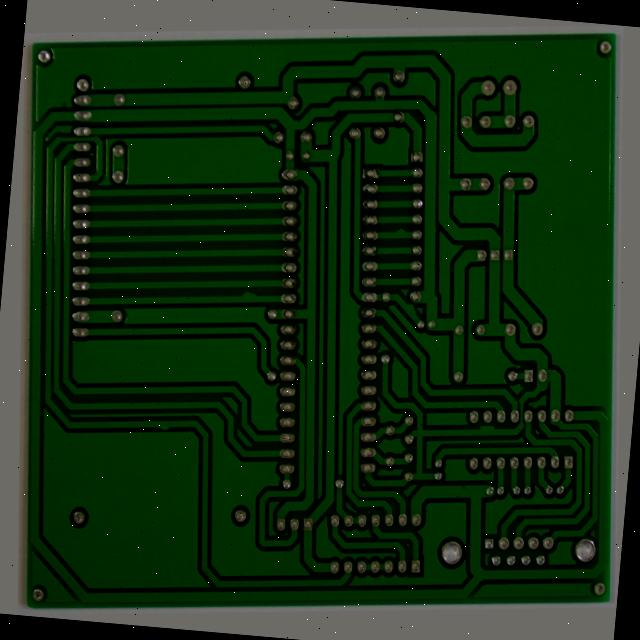spur: (233, 276, 258, 295), (406, 307, 427, 328), (478, 448, 499, 463), (136, 411, 153, 428), (404, 222, 421, 238)
